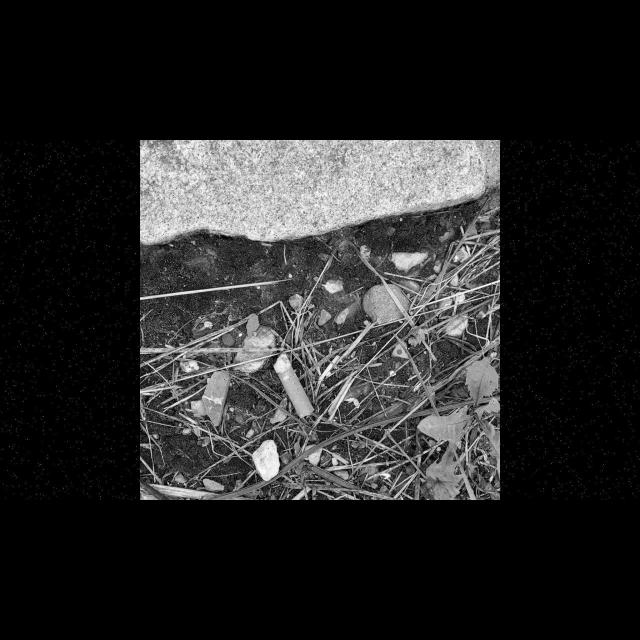cigarette: (273, 351, 315, 418)
